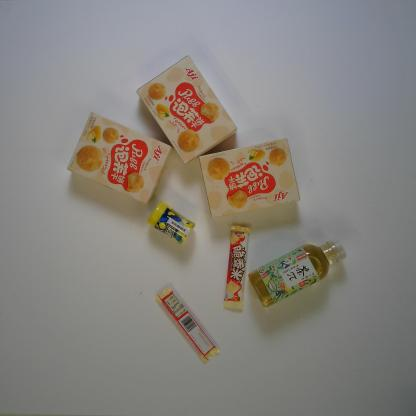Chocolate: (154, 283, 222, 367), (220, 221, 249, 312)
Dessert: (134, 52, 240, 167), (65, 111, 171, 206), (192, 134, 302, 220)
Drink: (247, 237, 349, 308)
Gum: (146, 202, 195, 247)
